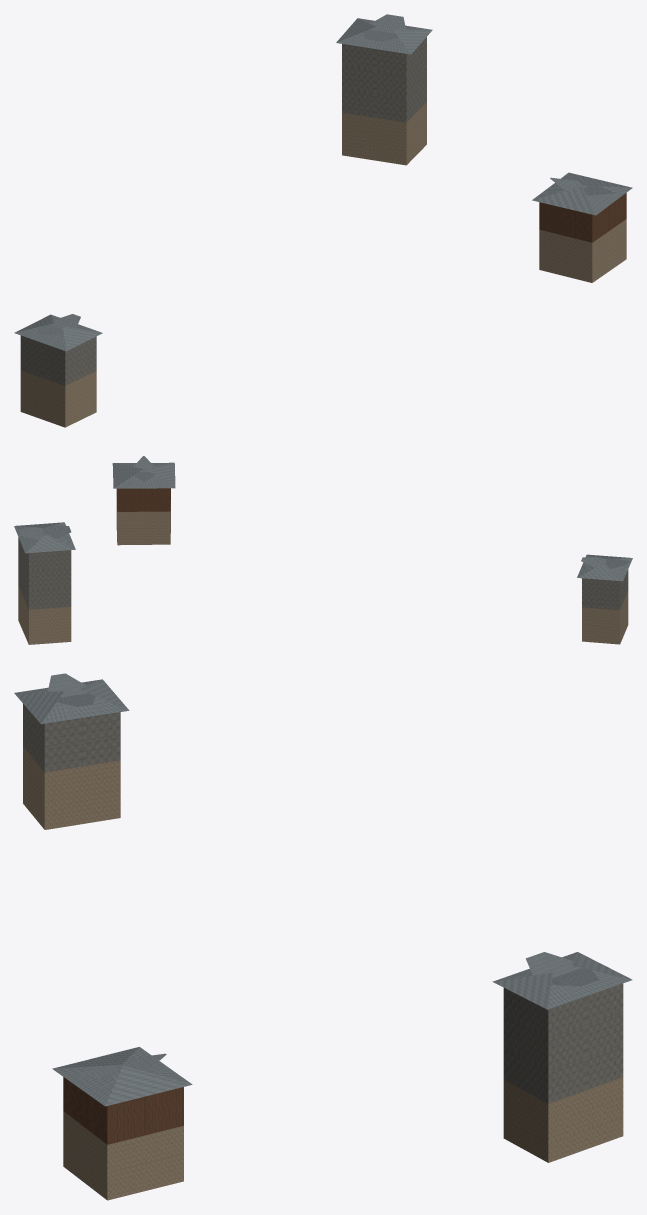
The model's file is bld_c22_30_388.gltf.
The picture shows the model from 3 angles, top to bottom: view 1: azimuth 30°, elevation 25°; view 2: azimuth 150°, elevation 25°; view 3: azimuth 270°, elevation 25°; orthographic projection. The views are drawn at different scales.
Visible parts, largest first — view 1: bld_c22_30_388; view 2: bld_c22_30_388; view 3: bld_c22_30_388.
Boxes of the visible parts, <box> form: bld_c22_30_388: <box>14,14,632,427</box>; bld_c22_30_388: <box>14,456,632,644</box>; bld_c22_30_388: <box>14,673,632,1200</box>.
Bounding box in the file's own units: 77.1 × 15.6 × 48.25.
Materials: 4 (4 with a texture image).
